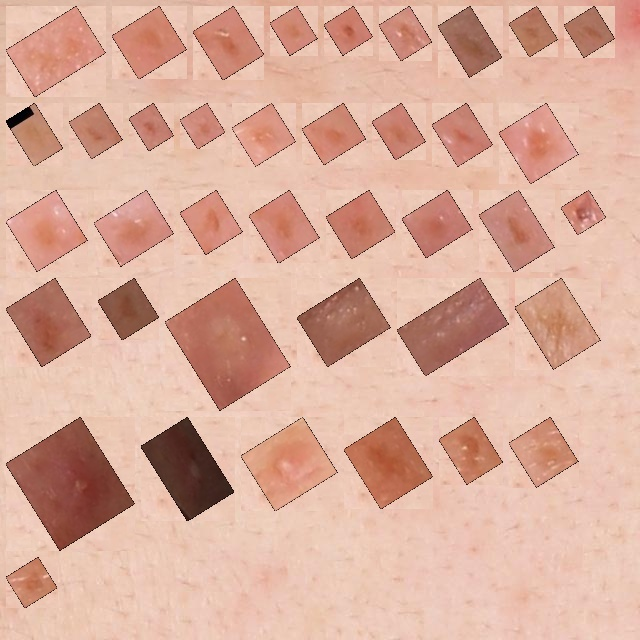hypertrophic_scar: (176, 289, 279, 399), (408, 289, 498, 365), (308, 289, 379, 355)
melasma: (17, 17, 95, 86), (355, 428, 422, 498), (526, 289, 589, 358), (17, 289, 80, 355), (17, 201, 76, 260), (510, 114, 567, 173), (490, 201, 543, 261), (105, 201, 163, 255), (123, 17, 175, 68), (204, 17, 253, 69), (260, 201, 308, 252), (520, 428, 567, 476), (337, 201, 384, 248), (413, 201, 461, 247), (449, 17, 491, 66), (450, 428, 492, 473), (243, 114, 285, 155), (313, 114, 355, 154), (191, 201, 231, 243), (443, 114, 482, 155), (109, 289, 148, 329), (17, 114, 52, 155), (383, 114, 415, 149), (80, 114, 111, 148), (390, 17, 421, 50), (575, 17, 604, 46), (17, 568, 46, 597), (520, 17, 547, 46), (335, 17, 362, 44), (281, 17, 306, 44), (140, 114, 163, 140), (191, 114, 214, 138)
pustule: (17, 428, 124, 539), (152, 428, 223, 510), (252, 428, 326, 500)
